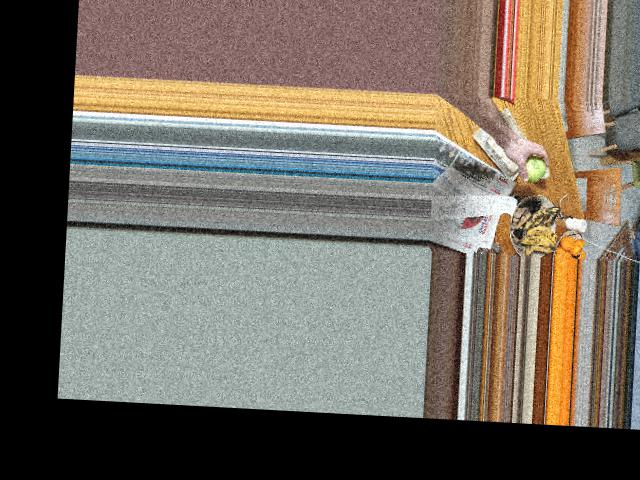apple: (515, 149, 550, 185)
